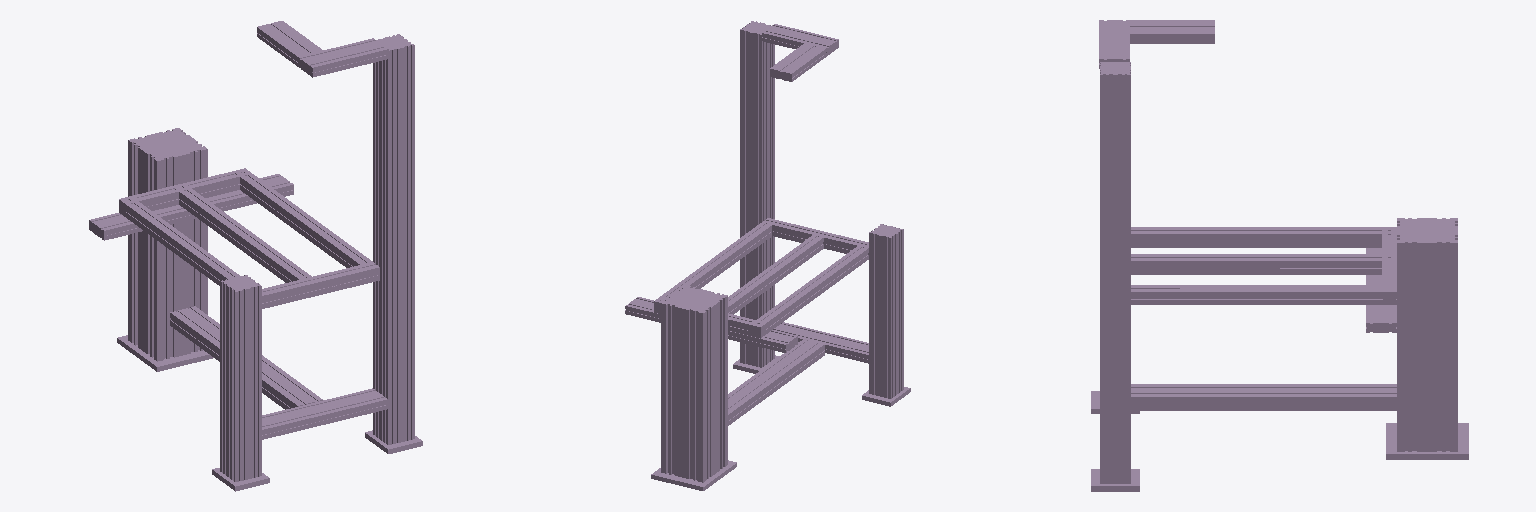
robot.urdf — stand:
<?xml version="1.0" ?>
<robot name="stand">
  
  <link name="world"/>
  
  <joint name="fix_stand" type="fixed">
    <parent link="world"/>
    <child link="stand_link"/>
  </joint>
  
  <link
    name="stand_link">
    <inertial>
      <origin
        xyz="0 0 0"
        rpy="0 0 0" />
      <mass
        value="12144" />
      <inertia
        ixx="37398"
        ixy="-0.0018658"
        ixz="0.0027121"
        iyy="49184"
        iyz="-0.00062593"
        izz="50148" />
    </inertial>
    <visual>
      <origin
        xyz="0 0 0"
        rpy="0 0 -1.570796" />
      <geometry>
        <mesh
          filename="model://binPickingStand_scaled/meshes/binPickingStand_scaled.dae"/>
      </geometry>
    </visual>
    <collision>
      <origin
        xyz="0 0 0"
        rpy="0 0 -1.570796" />
      <geometry>
        <mesh
          filename="model://binPickingStand_scaled/meshes/binPickingStand_scaled.dae" />
      </geometry>
    </collision>
  </link>
</robot>

--- Render facts (derived) ---
Views: 3 orthographic renders of the robot side by side, from view 1: azimuth 30°, elevation 25°; view 2: azimuth 150°, elevation 25°; view 3: azimuth 270°, elevation 25°.
Robot: stand — 2 links, 1 joints (1 fixed); root link world; default pose: every joint at zero.
Links seen in each view (by area): view 1: stand_link; view 2: stand_link; view 3: stand_link.
Boxes of the visible links, x1=… form: stand_link: x1=89, y1=21, x2=422, y2=491; stand_link: x1=625, y1=21, x2=910, y2=490; stand_link: x1=1091, y1=20, x2=1468, y2=491.
Size in the robot's own frame: 0.6028 by 0.9958 by 1.21 metres.
Meshes: 1 distinct files referenced, 1 mesh visuals loaded (1 Collada DAE).